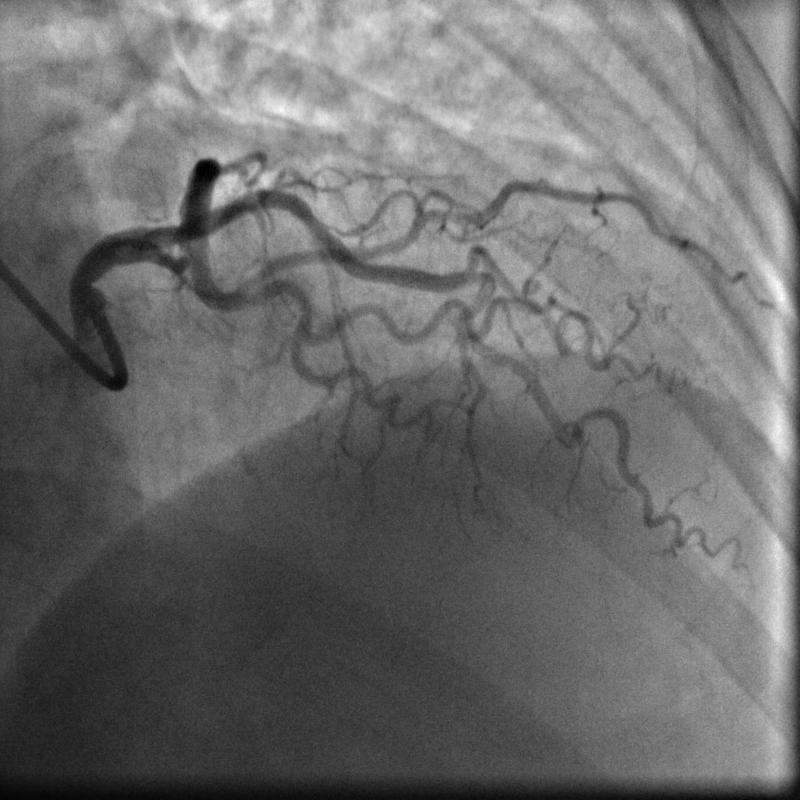Stenosis: (164, 222, 199, 272)
